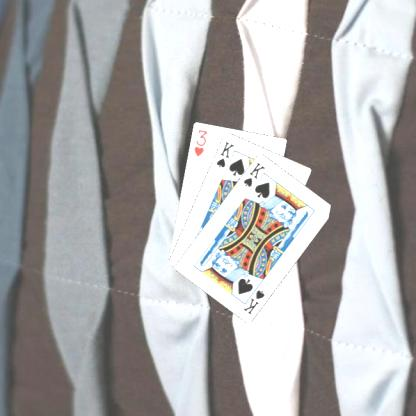3H: (191, 127, 209, 158)
KS: (240, 282, 266, 315), (213, 138, 236, 169), (241, 160, 266, 188)
